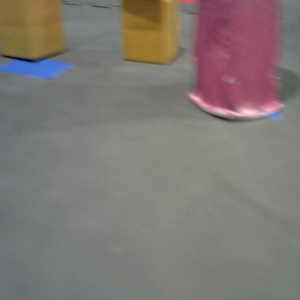Right: (188, 1, 285, 120)
